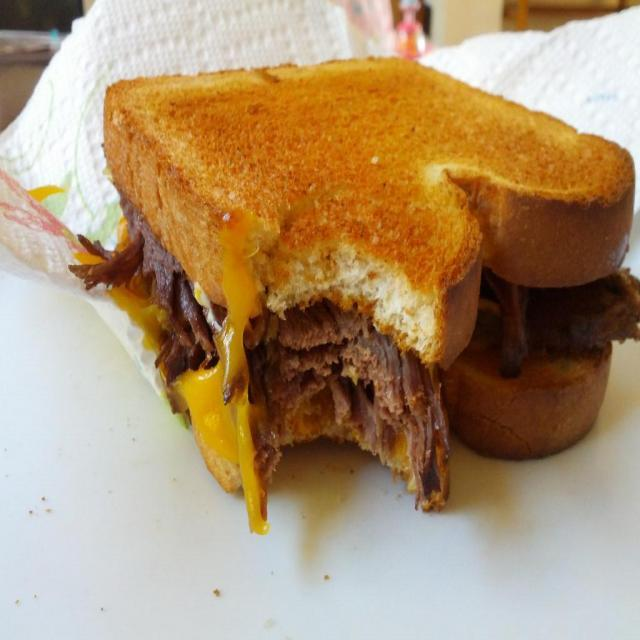Sandwich: (68, 46, 640, 528)
